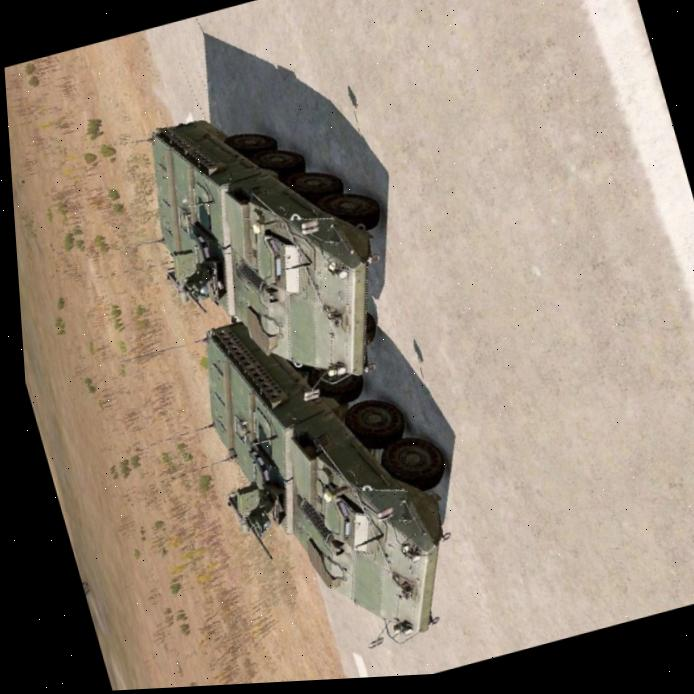armored_car: (177, 276, 492, 680), (126, 73, 429, 426)
